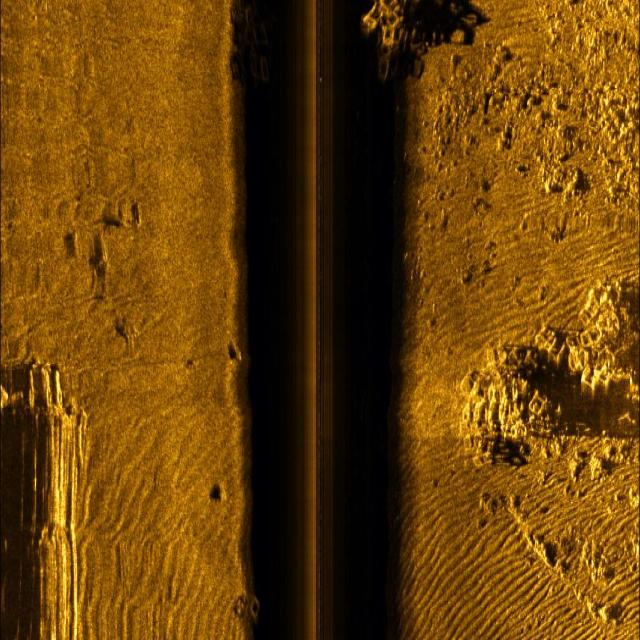artificial reef: (466, 255, 630, 449), (225, 0, 287, 98), (367, 0, 422, 76), (236, 576, 276, 636)
